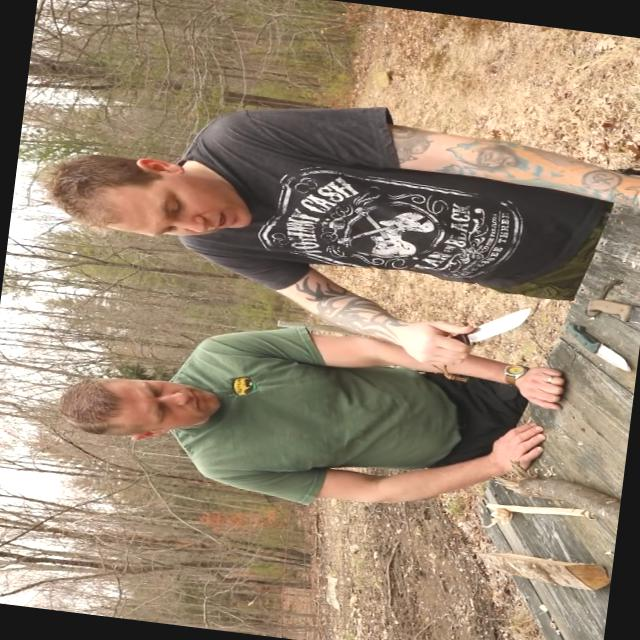knife: (410, 286, 548, 378)
